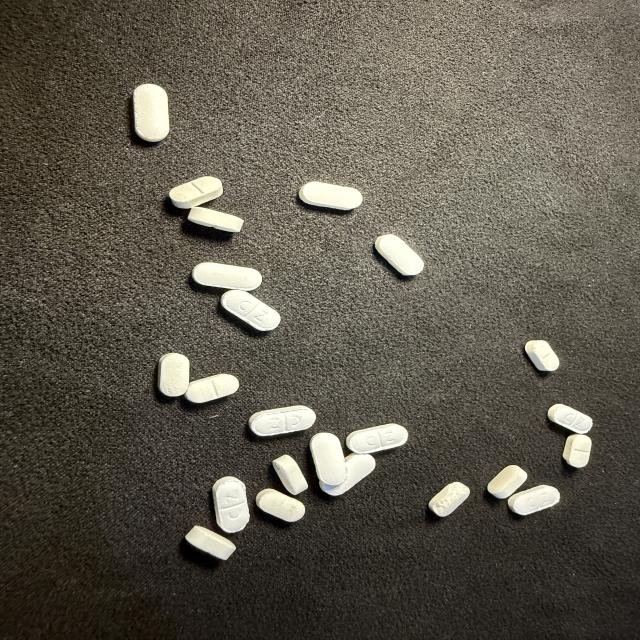pill: (221, 290, 281, 330), (321, 454, 375, 495), (133, 84, 169, 142), (213, 477, 249, 533), (249, 406, 316, 436), (375, 235, 424, 275), (310, 433, 347, 485), (192, 263, 262, 290), (347, 424, 408, 453), (299, 182, 362, 210), (185, 526, 235, 560), (170, 177, 223, 208), (256, 489, 305, 522), (185, 374, 239, 403), (508, 485, 560, 515), (429, 482, 470, 516), (188, 207, 243, 232), (273, 455, 308, 494), (158, 353, 189, 396), (488, 465, 527, 498), (548, 404, 592, 433), (525, 340, 559, 371), (563, 434, 591, 467)
